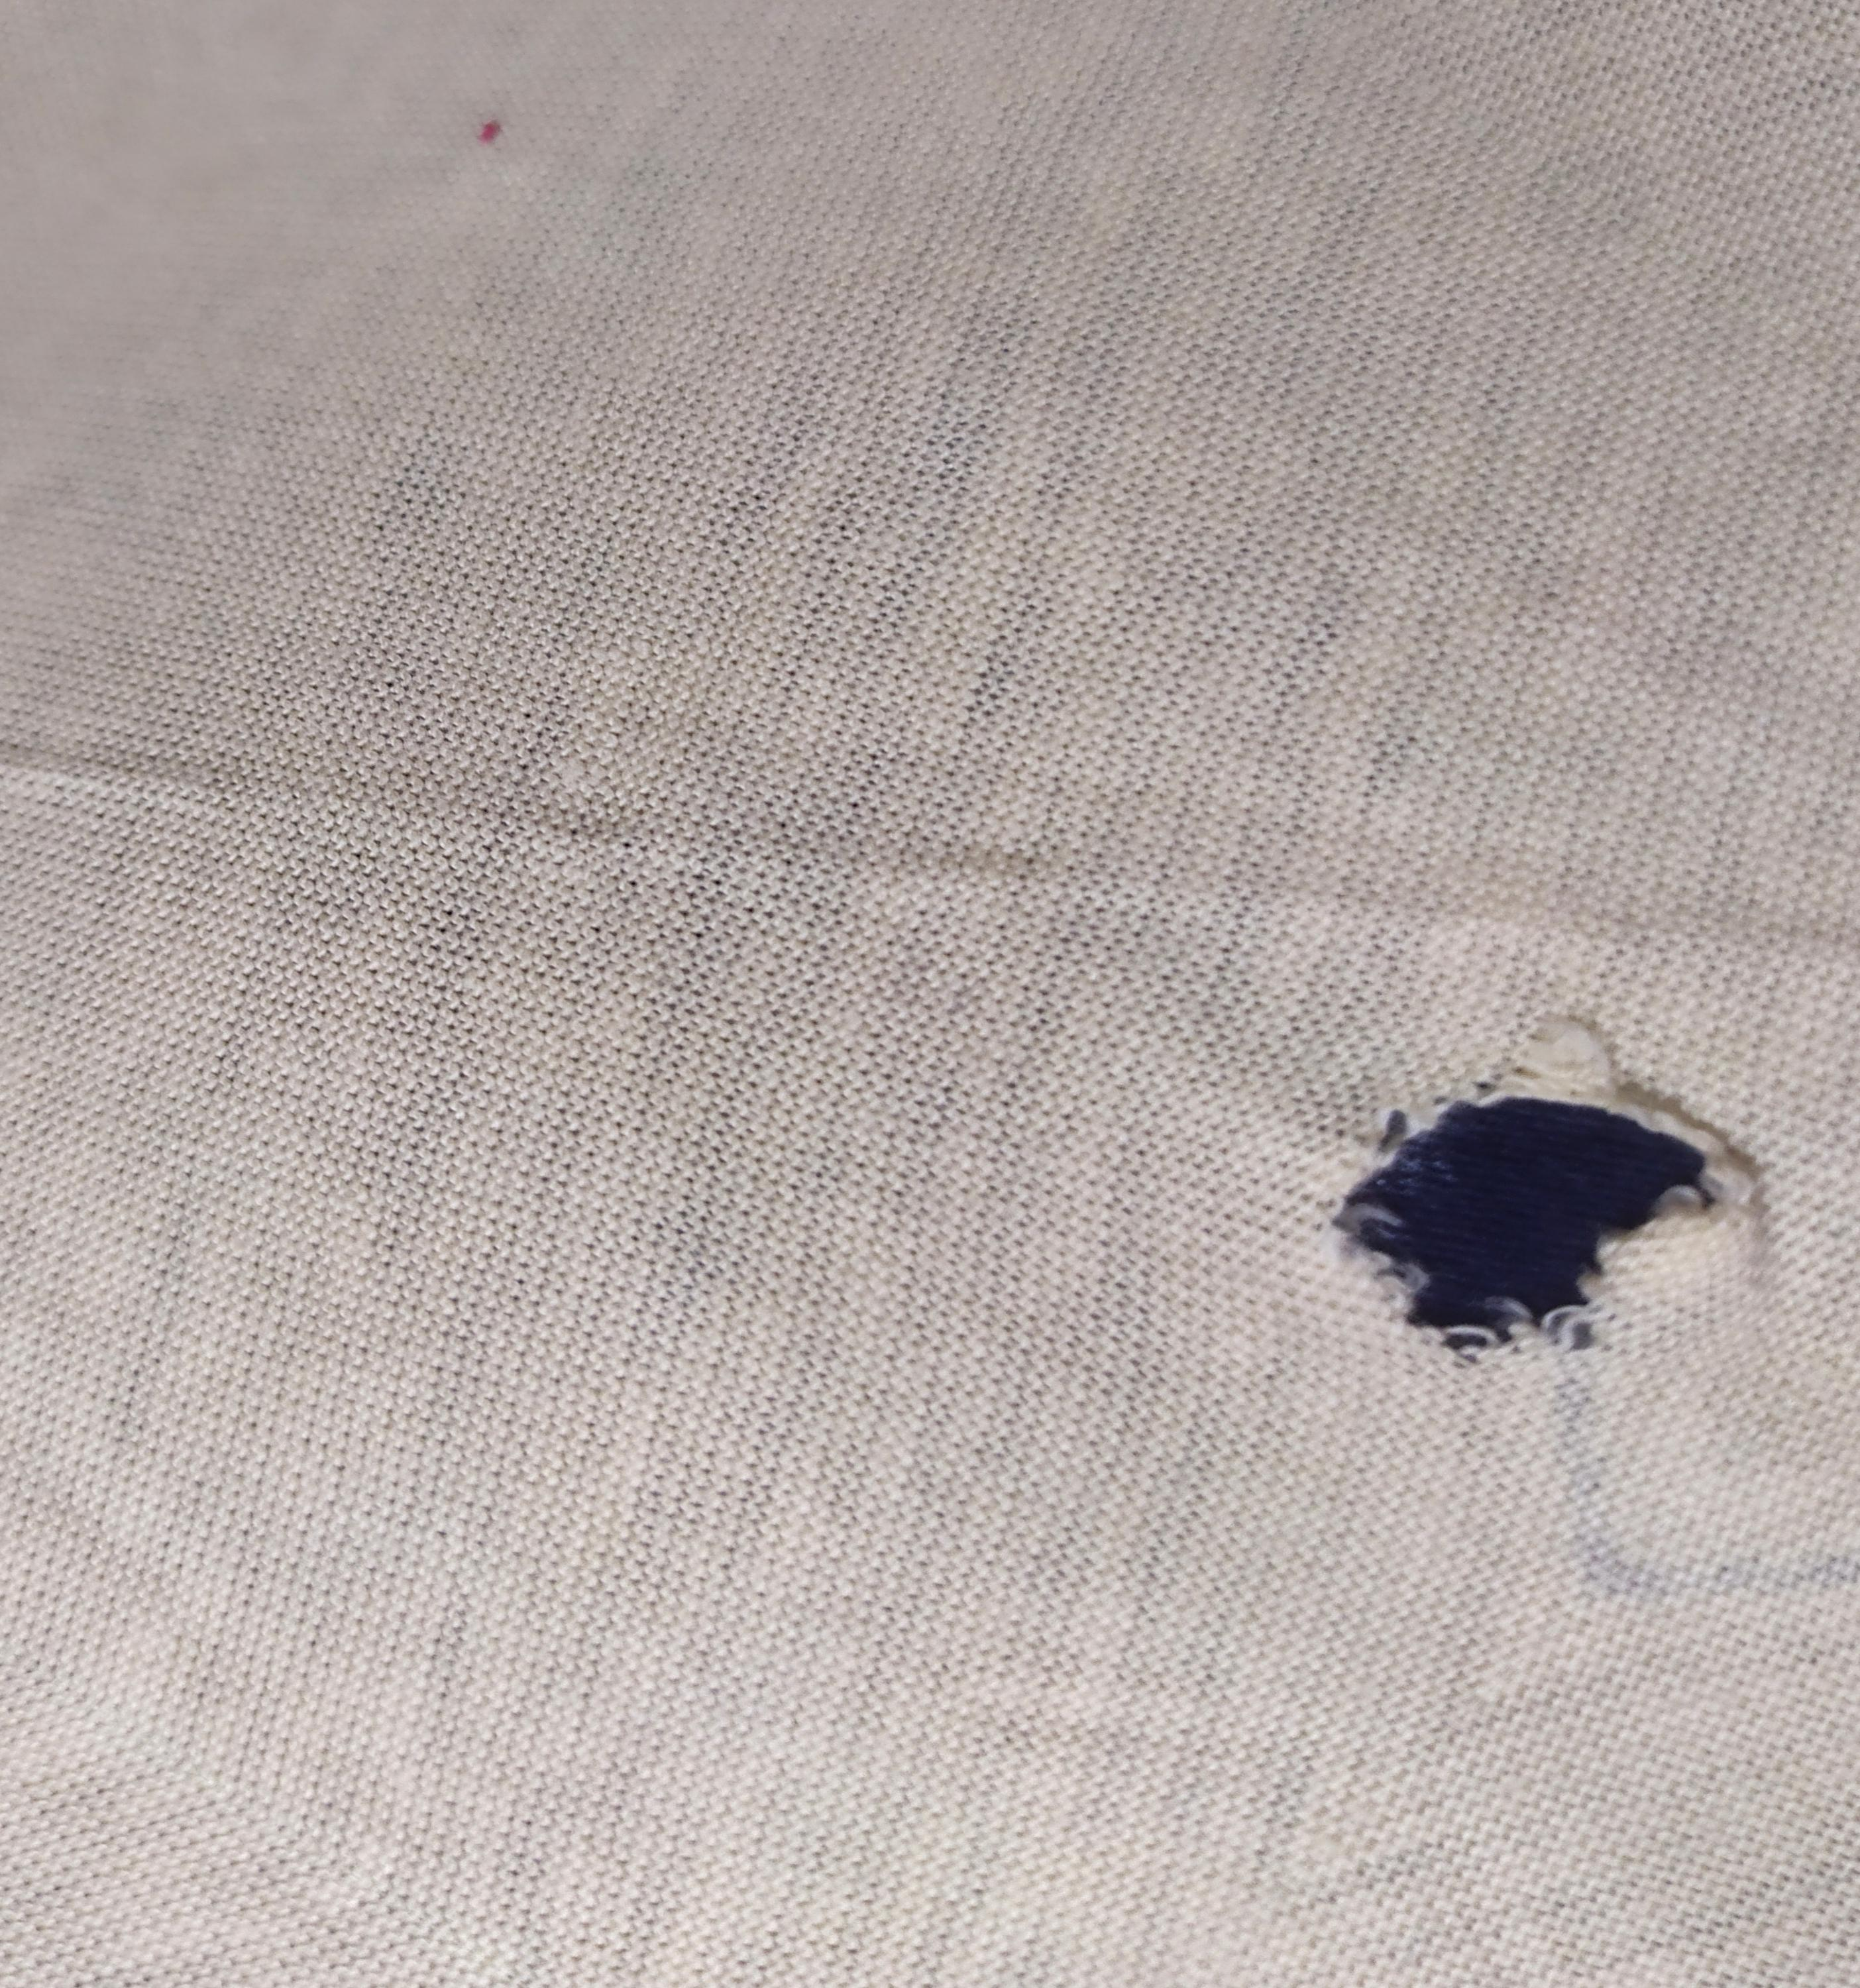hole: (1308, 1000, 1785, 1383)
